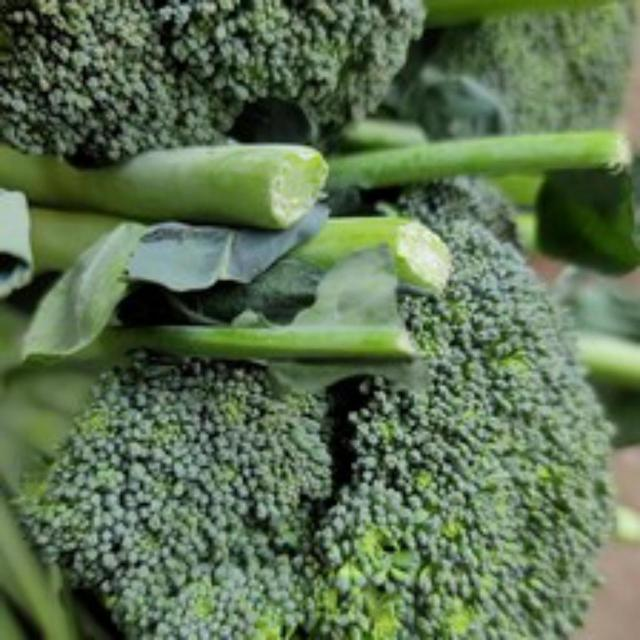broccoli: (29, 194, 631, 637)
